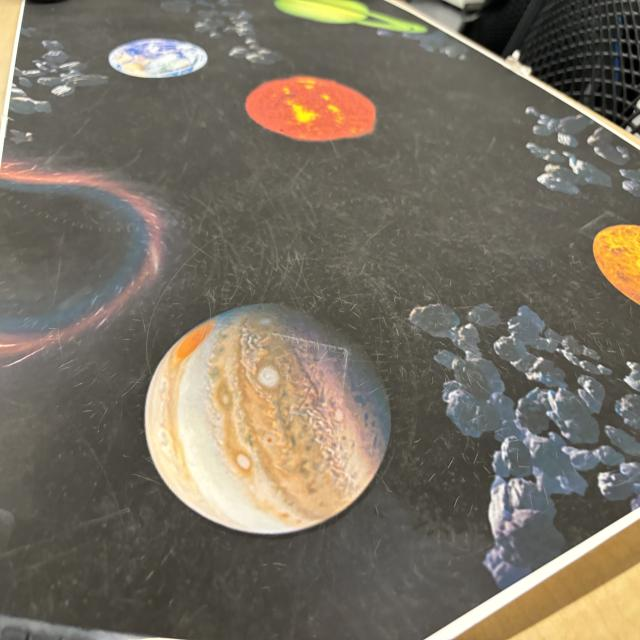Asteroids: (409, 301, 640, 564), (525, 102, 640, 199), (5, 34, 107, 121), (190, 2, 274, 60)
Black Hole: (0, 157, 159, 364)
Earth: (108, 37, 210, 74)
Jupiter: (152, 301, 386, 524)
Saturn: (271, 0, 426, 33)
Sun: (243, 74, 376, 140)
Venus: (589, 218, 640, 302)
